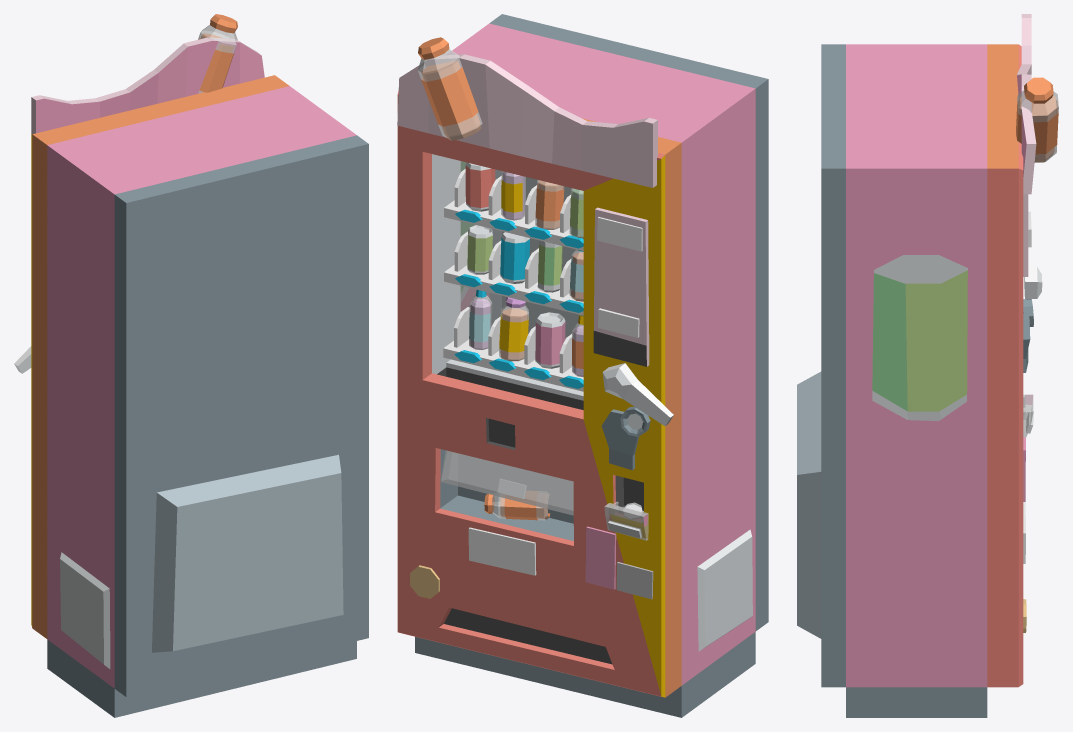
The model's file is macchinetta.fbx.
3 renders of one model, left to right at view 1: azimuth 30°, elevation 25°; view 2: azimuth 150°, elevation 25°; view 3: azimuth 270°, elevation 25°, orthographic. The views are drawn at different scales.
Visible parts, largest first — view 1: group_1848869498; view 2: group_1848869498, Lattina in basso; view 3: group_1848869498.
Boxes of the visible parts, x1,y1,x2,y2 form: group_1848869498: [14, 14, 368, 717]; group_1848869498: [397, 14, 768, 717]; Lattina in basso: [484, 491, 550, 520]; group_1848869498: [797, 14, 1058, 717].
Size of the model in its own units: 128 by 281 by 108.
